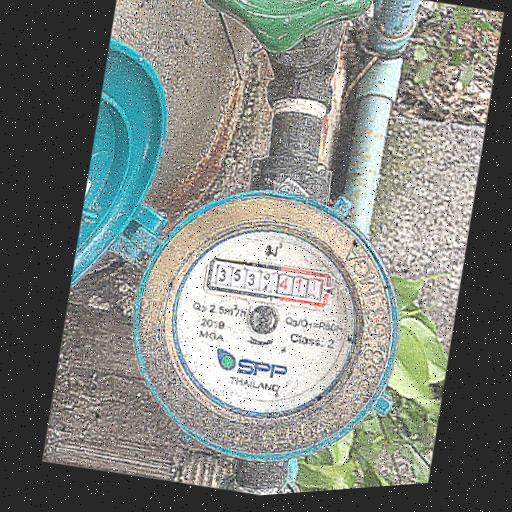1: (290, 277, 309, 299), (306, 279, 323, 301)
3: (244, 269, 262, 291), (215, 265, 232, 287), (258, 272, 275, 294)
4: (275, 274, 294, 297)
5: (229, 268, 247, 289)
border_water_meter_number: (204, 247, 335, 317)
